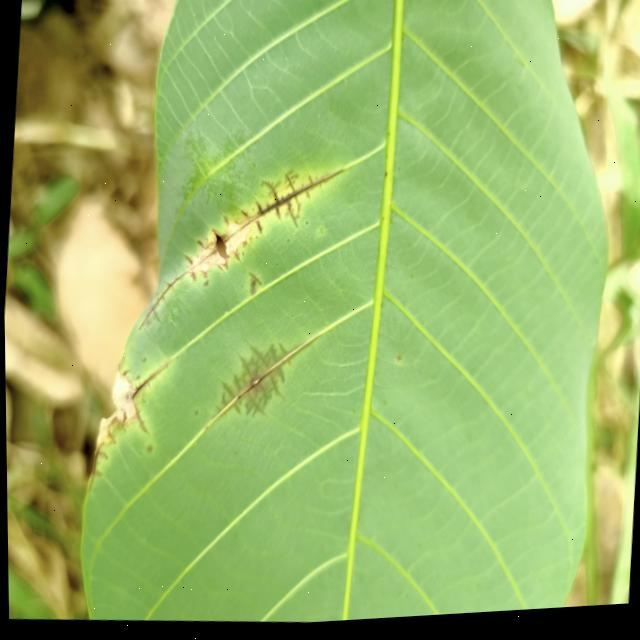Corynespora: (135, 157, 346, 344), (213, 335, 310, 426), (125, 363, 167, 437)
Leaf-Blight: (92, 364, 137, 449)
